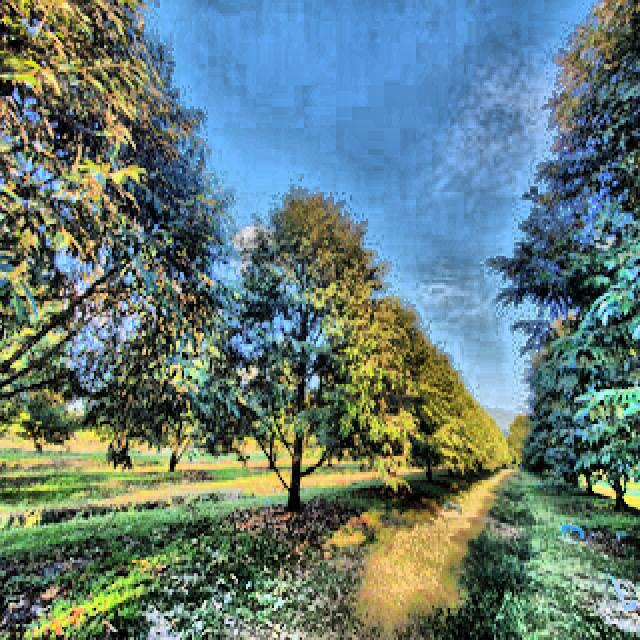arvore: (274, 301, 312, 528)
